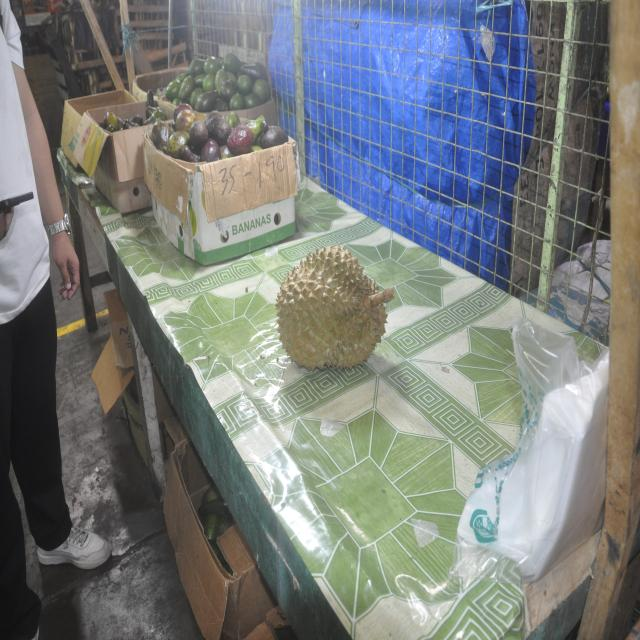mature: (276, 246, 394, 370)
